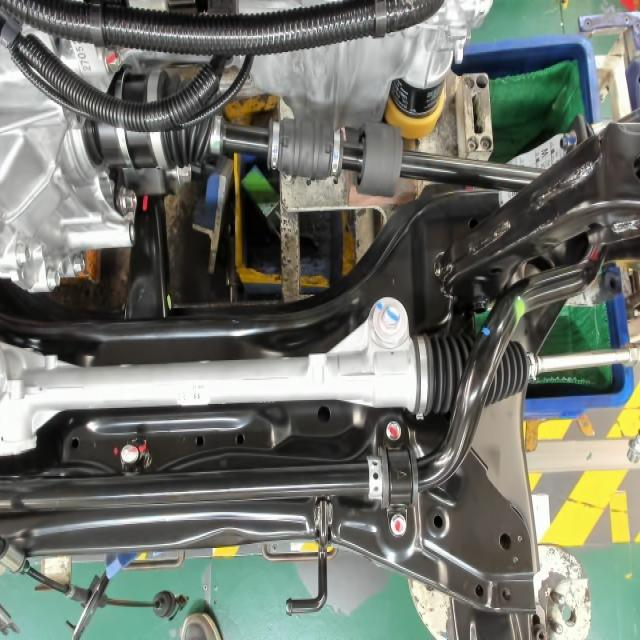Bar Stabilizer-HJ: (512, 292, 528, 331)
